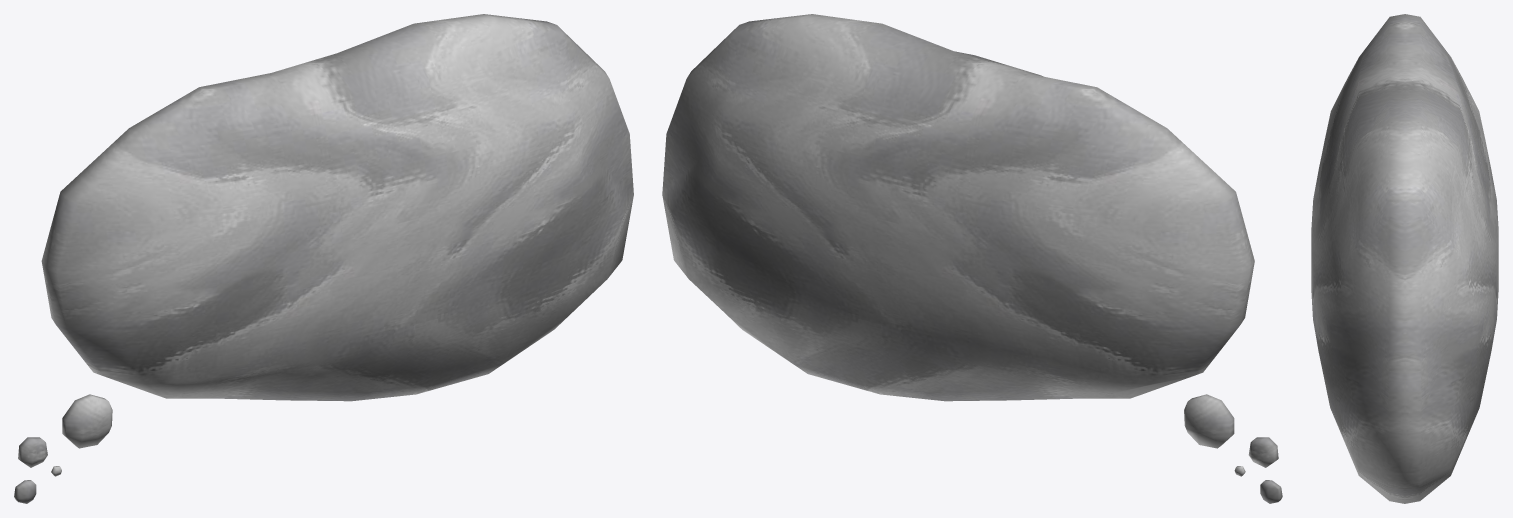
The model's file is AG_BillboardText_05_Art.fbx.
3 renders of one model, left to right at view 1: azimuth 30°, elevation 25°; view 2: azimuth 150°, elevation 25°; view 3: azimuth 270°, elevation 25°, orthographic.
Visible parts, largest first — view 1: Thougts_Bubble_05; view 2: Thougts_Bubble_05; view 3: Thougts_Bubble_05.
Boxes of the visible parts, box(x1,y1,x2,y2) form: Thougts_Bubble_05: box(14, 14, 633, 503); Thougts_Bubble_05: box(662, 14, 1282, 503); Thougts_Bubble_05: box(1311, 14, 1498, 503).
Bounding box in the file's own units: 231 × 61.84 × 136.
2 materials, 2 textured.
